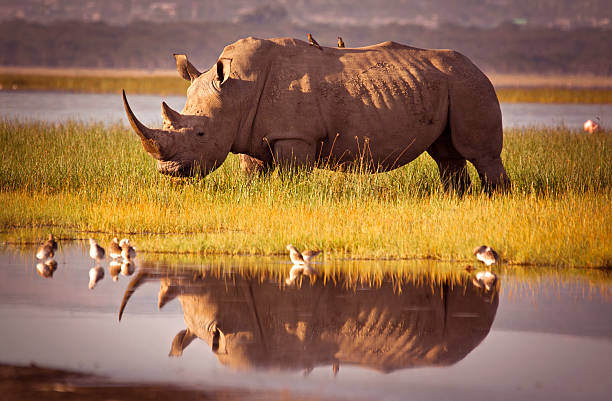rhino: (98, 39, 266, 188)
